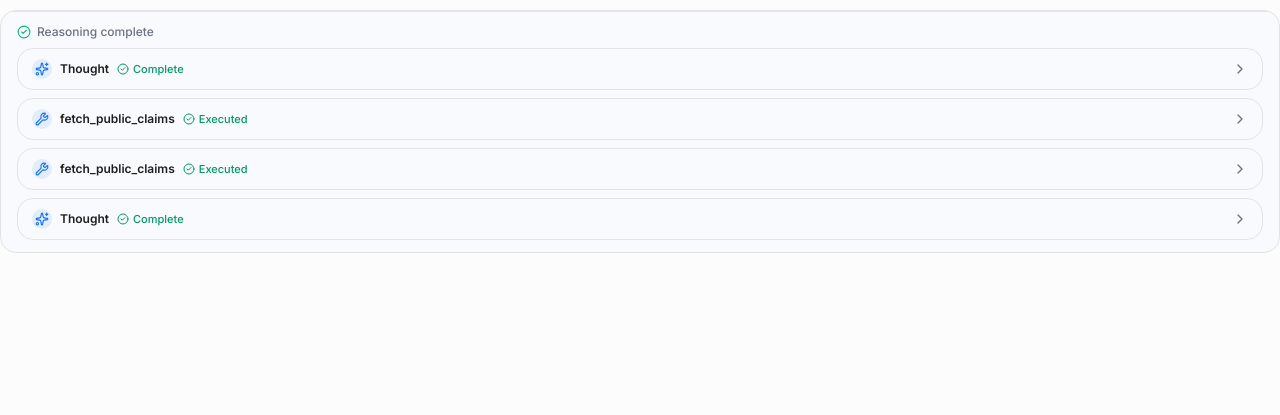
UI Components › automatically converts legacy [Tool Executed] session history traces into ToolCollapsible disclosure cards
Note: Expand first tool card
What coordinates should you click on to do the following:
click the 1st button "fetch_public_claims Executed"
I would click on:
 (117, 118)
Its box is x1=18 y1=99 x2=1262 y2=139.
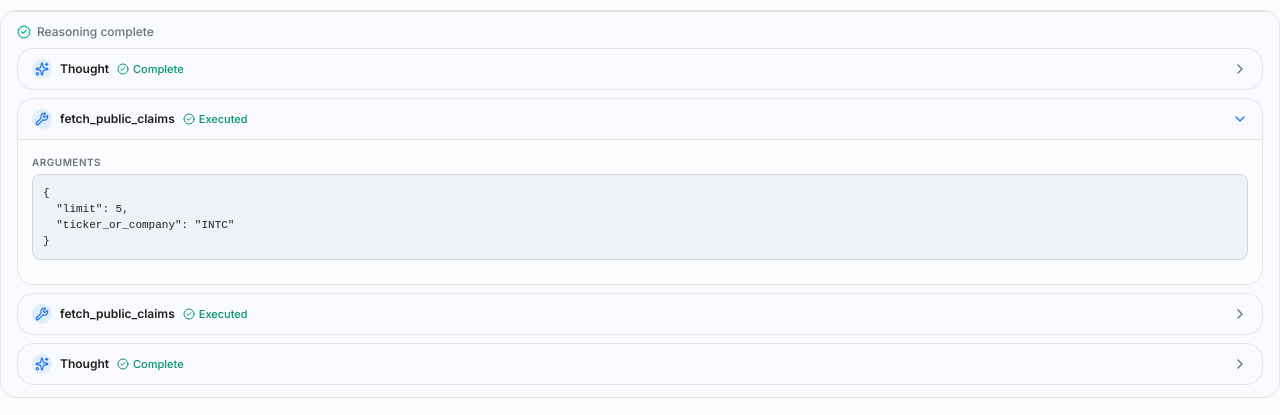
Expected: the text "{ \"limit\": 5, \"ticker_or_company\": \"INTC\" }" is shown, x1=32 y1=174 x2=1248 y2=260
